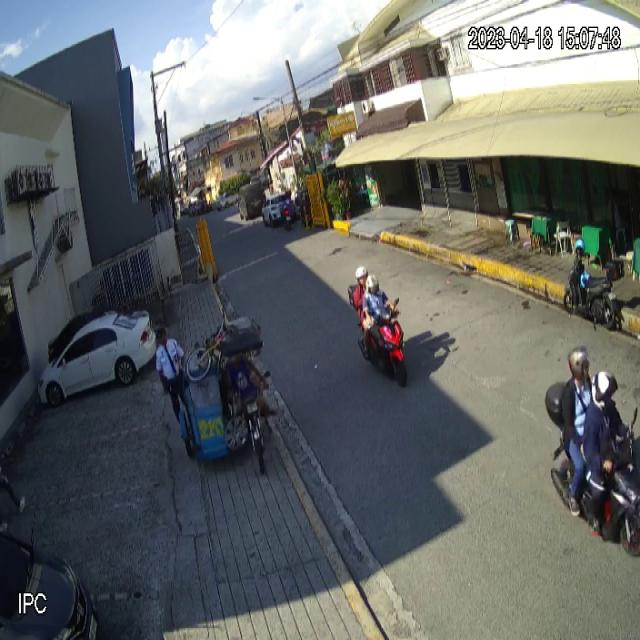Car: (38, 314, 157, 406)
Motorcycle: (562, 250, 626, 331), (368, 298, 407, 384)
Tricycle: (179, 316, 265, 473)
